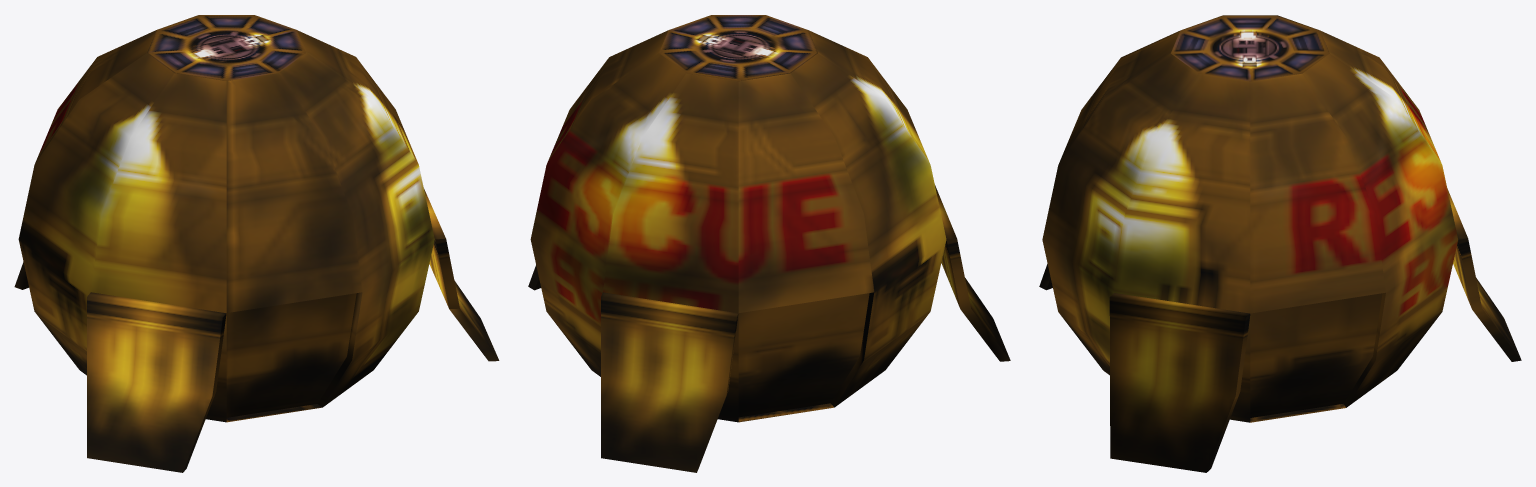
Rendered from acs01.obj.
3 views of the same model, side by side, from view 1: azimuth 30°, elevation 25°; view 2: azimuth 150°, elevation 25°; view 3: azimuth 270°, elevation 25° (orthographic).
Parts seen in each view (by area): view 1: frm-fuselg, frm-protal3, frm-portal2; view 2: frm-fuselg, frm-portal1, frm-protal3; view 3: frm-fuselg, frm-portal2, frm-portal1.
Part boxes in pixels (x1,y1,x2,y2): frm-fuselg: (18,15,434,422); frm-protal3: (87,292,226,472); frm-portal2: (424,189,499,361); frm-fuselg: (530,15,946,422); frm-portal1: (601,292,738,472); frm-protal3: (935,185,1010,361); frm-fuselg: (1042,15,1458,422); frm-portal2: (1109,293,1250,472); frm-portal1: (1447,188,1521,361).
Size of what is drawn, in the model's own units: 5.39 by 3.74 by 5.14.
